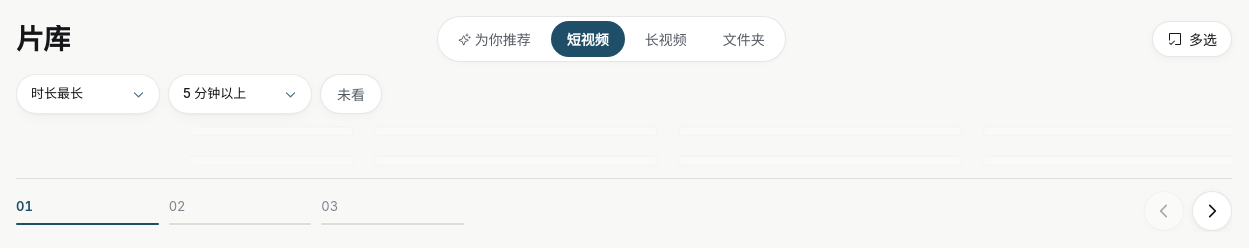
Scenario: library filters › sends mobile duration and unwatched controls and resets pagination
Earlier steps of the test are not shown.
What coordinates should you click on to do the following:
click the button with aria-label "只看未看"
I would click on:
 (351, 94)
Its box is [320,74,382,114].
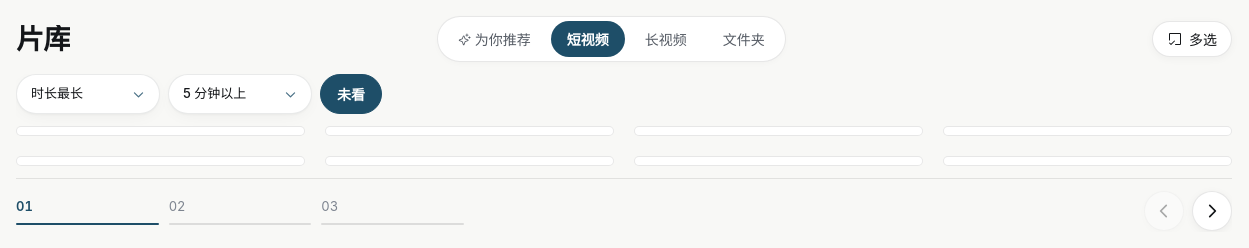
Expected: the button with aria-label "只看未看" is pressed, [320,74,382,114]
